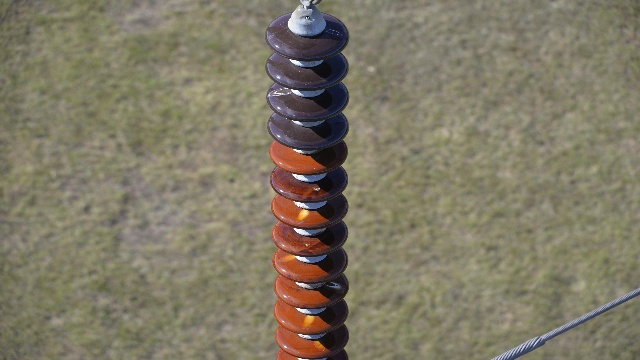insulator_unspecified: (266, 11, 351, 359)
pollution_flashover_local: (263, 85, 294, 98), (296, 204, 314, 225), (308, 334, 333, 348), (300, 313, 316, 330), (277, 252, 297, 262), (326, 279, 339, 291)
